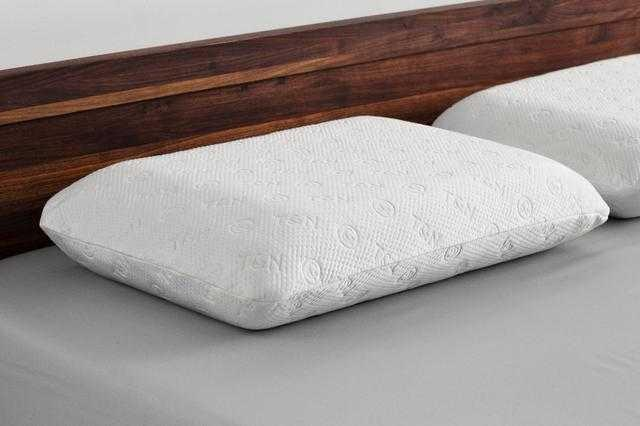pillow: (38, 113, 610, 331), (430, 51, 638, 219)
